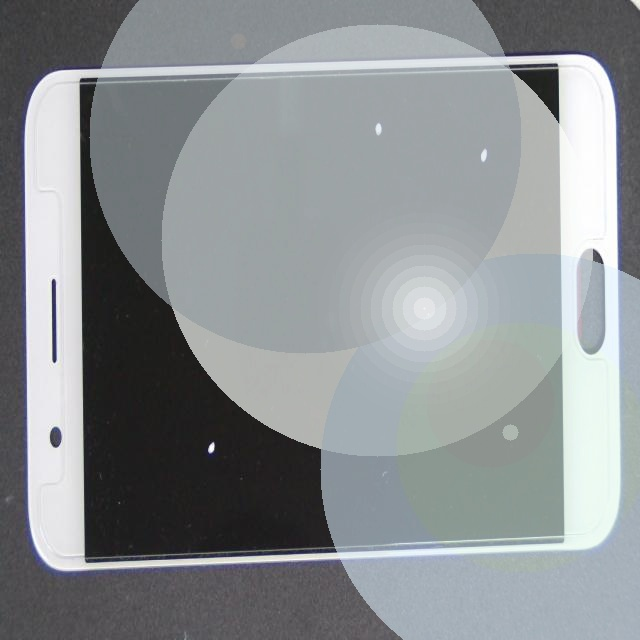stain: (128, 203, 327, 622), (253, 29, 640, 228), (203, 24, 548, 182)
